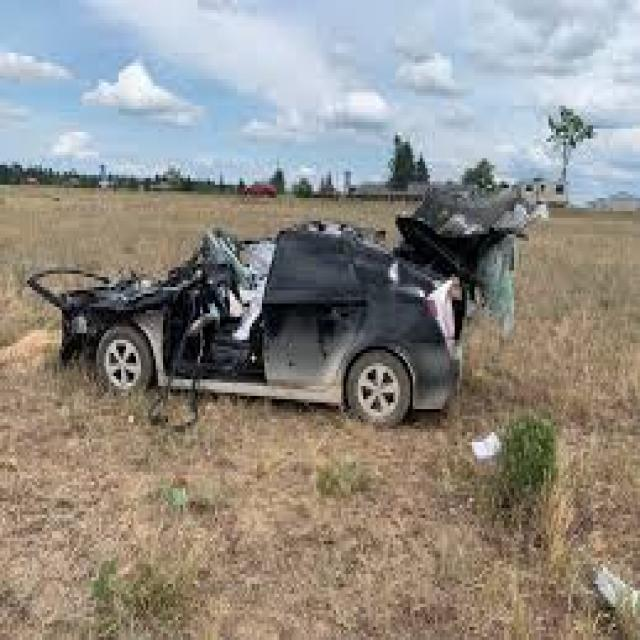accident: (41, 182, 497, 445)
